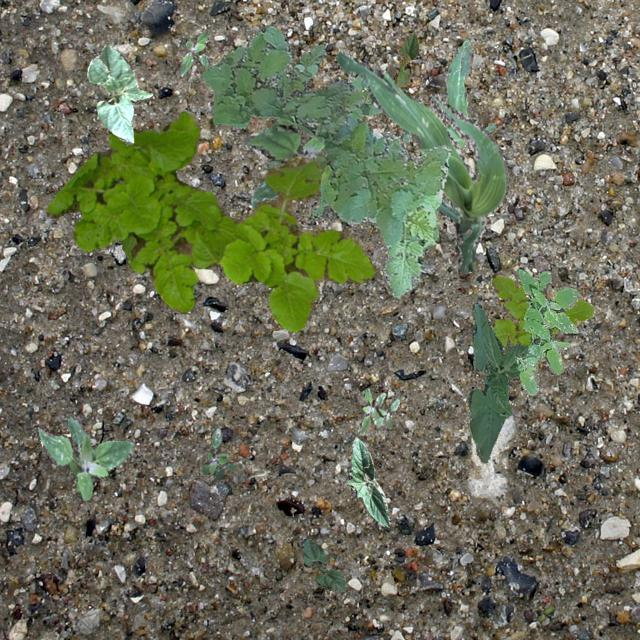crop: (336, 50, 508, 274), (402, 39, 496, 148), (466, 302, 528, 462), (86, 44, 152, 144), (344, 434, 390, 528), (303, 538, 347, 590), (348, 74, 380, 120), (393, 32, 418, 86), (120, 234, 136, 256)
weed: (44, 108, 374, 330), (202, 25, 449, 296), (514, 267, 582, 393), (37, 416, 131, 499), (242, 116, 326, 208), (489, 276, 594, 346), (356, 388, 398, 433), (200, 426, 236, 478), (178, 32, 208, 74)
